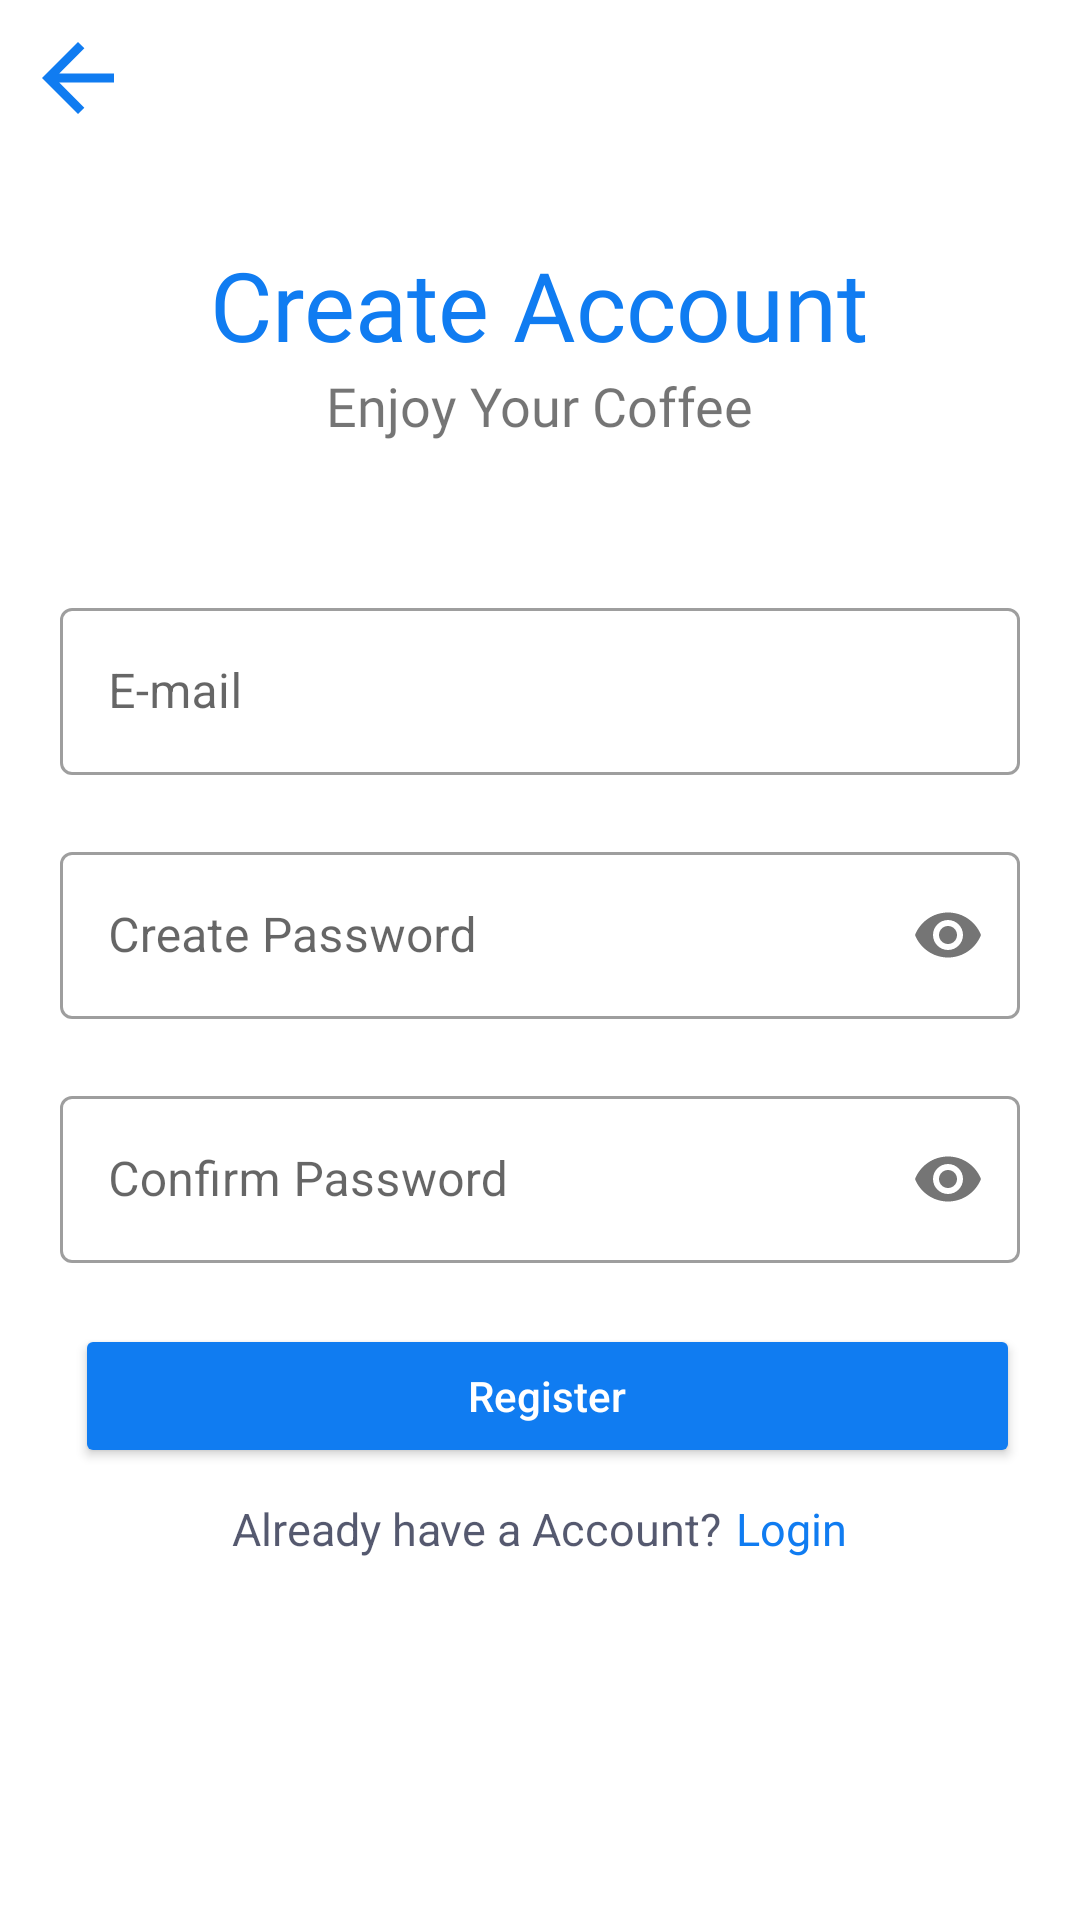

Icon bounding boxes for this 1080×1920 phone screenshot, format (x1, y1, x2, y2):
back: (42, 42, 114, 114)
